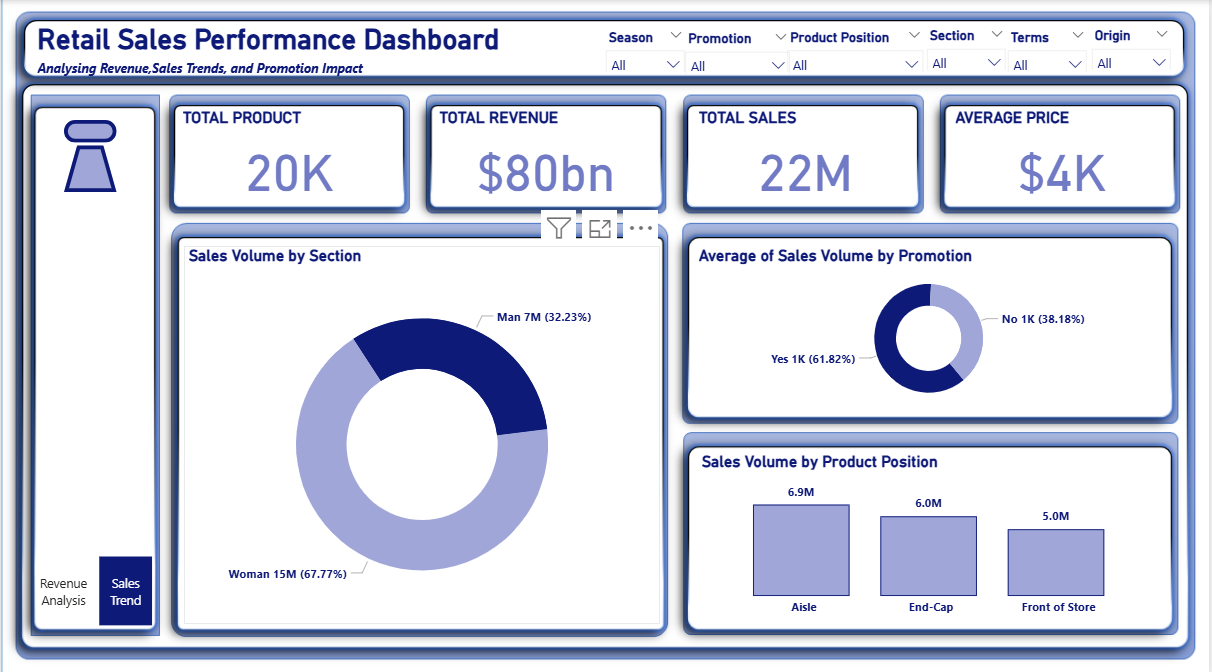

This screenshot's page, from the dashboard's own definition file:
{"tool":"powerbi","page":{"name":"Sales Trend","canvas":[1280,720],"ordinal":1},"visuals":[{"type":"columnChart","title":" Sales Volume by Product Position ","fields":{"Category":["Table1.Product Position"],"Y":["Sum(Table1.Sales Volume)"]},"box":[738,478.8,496.3,182.9],"z":0},{"type":"donutChart","fields":{"Y":["Avg(Table1.Sales Volume)"],"Category":["Table1.Promotion"]},"box":[735.1,260.8,497,175.7],"z":1000},{"type":"donutChart","title":" Sales Volume by Section","fields":{"Category":["Table1.Section"],"Y":["Sum(Table1.Sales Volume)"]},"box":[194.1,260.9,504.2,400.8],"z":2000},{"type":"card","title":"TOTAL PRODUCT","fields":{"Values":["Table1.Total Product"]},"box":[187.7,114.5,235.4,103.4],"z":3000},{"type":"card","title":"TOTAL REVENUE","fields":{"Values":["Table1.Total Revenue"]},"box":[459.7,114.5,235.4,103.4],"z":4000},{"type":"card","title":"TOTAL SALES","fields":{"Values":["Table1.Total Sales Volume"]},"box":[734.9,114.5,235.4,103.4],"z":5000},{"type":"card","title":"AVERAGE PRICE","fields":{"Values":["Table1.Avg Price"]},"box":[1006.9,114.5,235.4,103.4],"z":6000},{"type":"textbox","title":"Retail Sales Performance Dashboard","box":[33.4,23.9,512.2,65.2],"z":6001},{"type":"slicer","fields":{"Values":["Table1.Season"]},"box":[631.5,25.4,103.4,50.9],"z":6002},{"type":"slicer","fields":{"Values":["Table1.Promotion"]},"box":[715.8,27,130.4,50.9],"z":6003},{"type":"slicer","fields":{"Values":["Table1.Product Position"]},"box":[823.9,25.4,163.8,50.9],"z":6004},{"type":"slicer","fields":{"Values":["Table1.Section"]},"box":[971.9,23.9,103.4,50.9],"z":6005},{"type":"slicer","fields":{"Values":["Table1.Terms"]},"box":[1057.8,25.4,103.4,50.9],"z":6006},{"type":"slicer","fields":{"Values":["Table1.Origin"]},"box":[1146.8,23.9,103.4,50.9],"z":6007},{"type":"shape","box":[66.8,127.2,55.7,23.9],"z":6008},{"type":"shape","box":[66.8,154.3,55.7,49.3],"z":6009},{"type":"pageNavigator","box":[38.2,590.1,122.5,73.2],"z":6010}]}

Visuals, with their boxes in screenshot pixels (x1, y1, x2, y2), scaled from the page's 1280x720 canvas onto the 1212x672 screenshot:
" Sales Volume by Product Position " columnChart: bbox(699, 447, 1169, 618)
donutChart - Avg(Table1.Sales Volume) x Table1.Promotion: bbox(696, 243, 1167, 407)
" Sales Volume by Section" donutChart: bbox(184, 244, 661, 618)
"TOTAL PRODUCT" card: bbox(178, 107, 401, 203)
"TOTAL REVENUE" card: bbox(435, 107, 658, 203)
"TOTAL SALES" card: bbox(696, 107, 919, 203)
"AVERAGE PRICE" card: bbox(953, 107, 1176, 203)
"Retail Sales Performance Dashboard" textbox: bbox(32, 22, 517, 83)
slicer - Table1.Season: bbox(598, 24, 696, 71)
slicer - Table1.Promotion: bbox(678, 25, 801, 73)
slicer - Table1.Product Position: bbox(780, 24, 935, 71)
slicer - Table1.Section: bbox(920, 22, 1018, 70)
slicer - Table1.Terms: bbox(1002, 24, 1100, 71)
slicer - Table1.Origin: bbox(1086, 22, 1184, 70)
shape: bbox(63, 119, 116, 141)
shape: bbox(63, 144, 116, 190)
pageNavigator: bbox(36, 551, 152, 619)
